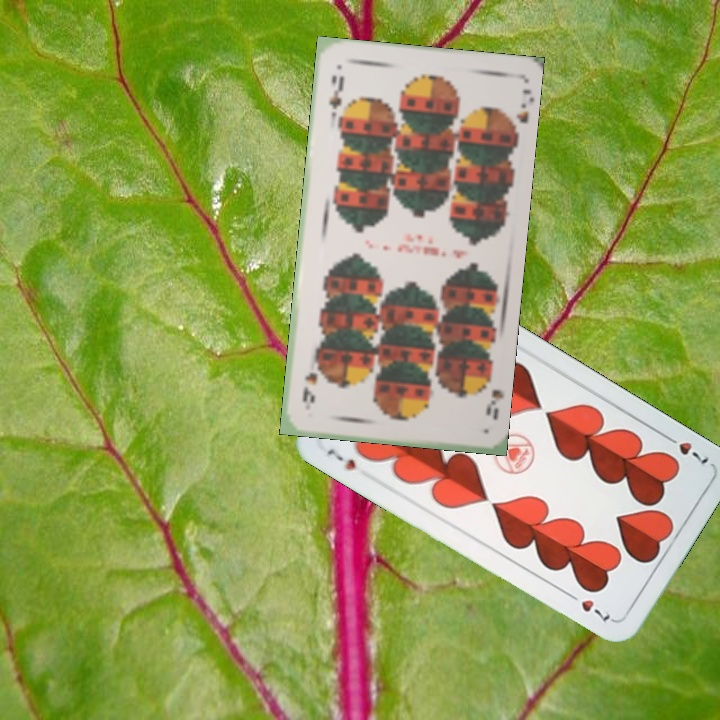H7: (659, 430, 711, 467), (323, 444, 359, 473)
S9: (477, 368, 504, 422), (325, 71, 347, 112)
